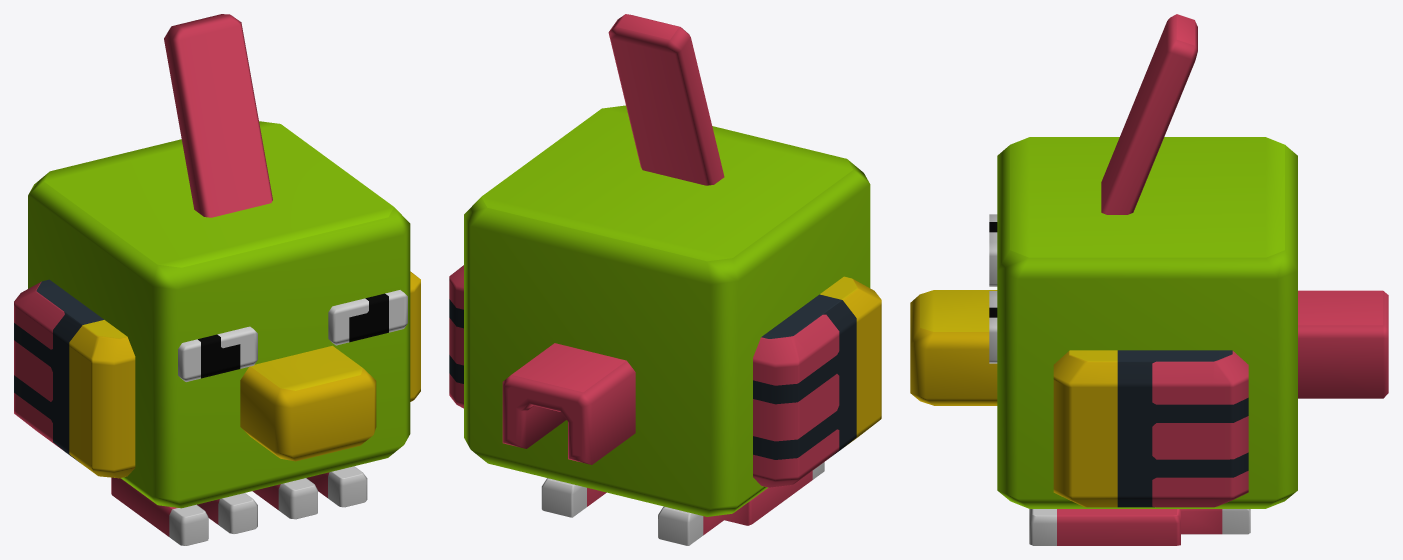
3 renders of one model, left to right at view 1: azimuth 30°, elevation 25°; view 2: azimuth 150°, elevation 25°; view 3: azimuth 270°, elevation 25°, orthographic. The views are drawn at different scales.
Visible parts, largest first — view 1: model; view 2: model; view 3: model.
Boxes of the visible parts, <box> form: model: <box>14,14,420,545</box>; model: <box>449,14,881,545</box>; model: <box>910,14,1388,545</box>.
Bounding box in the file's own units: 1.43 × 1.88 × 1.73.
